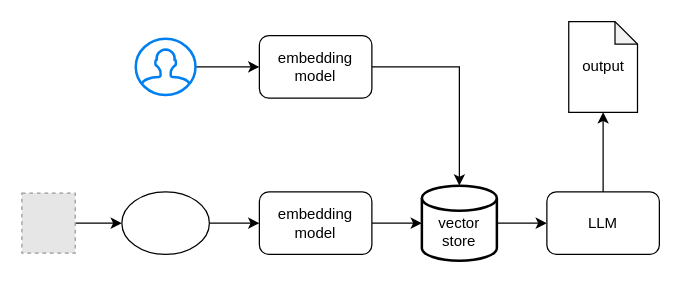
The diagram is 681 pixels wide and 284 high, and some of its shapes have lost their labels. Grey dashed boxes stand in for pictures. The centre of each missing label's shape, as x and y in pixels:
"text" belongs at point (165, 222).
"user input" belongs at point (165, 66).
